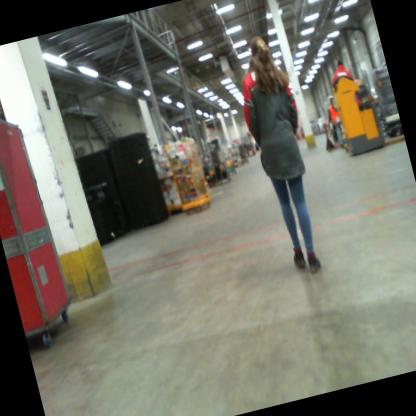pallet_truck: (328, 65, 404, 156), (317, 118, 340, 154)
